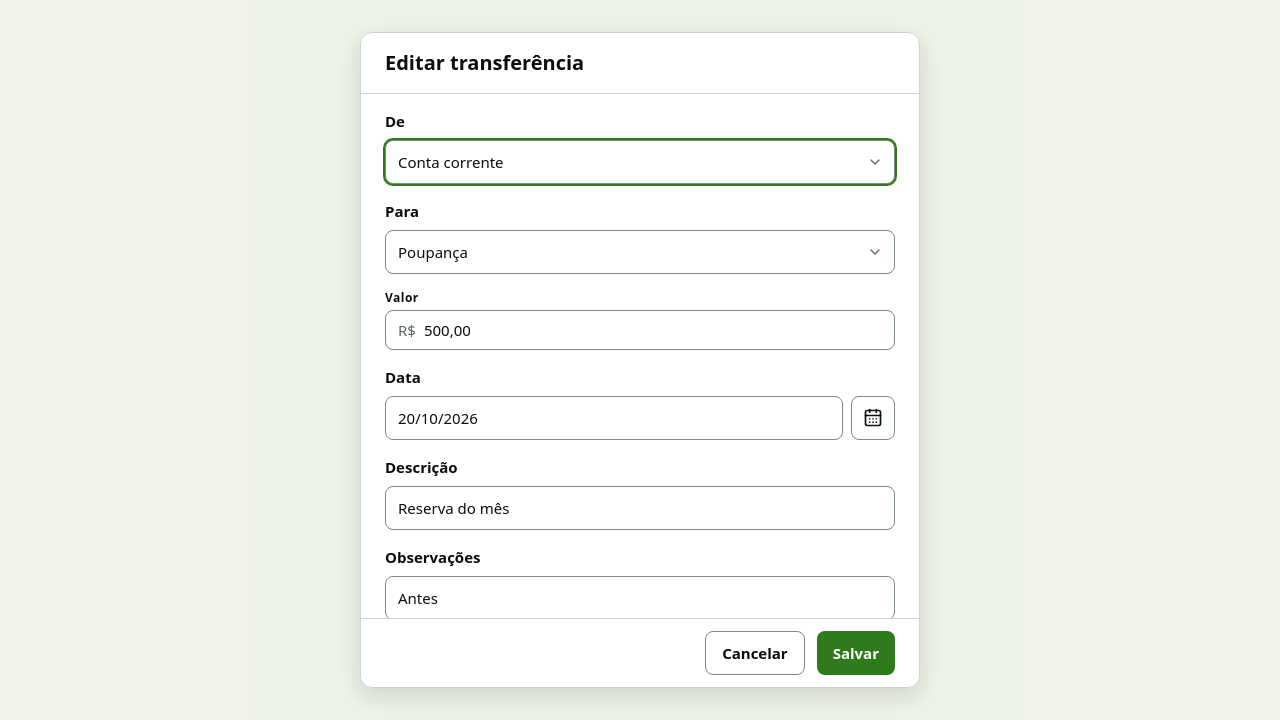
Scenario: TransferFormDialog — edit (spec 0018) › shows a conflict in the alert and reloads the transfer
Replace the text in the field labelled "Valor" with "600". click: (653, 330)
box: top-left (424, 319), bottom-right (882, 341)
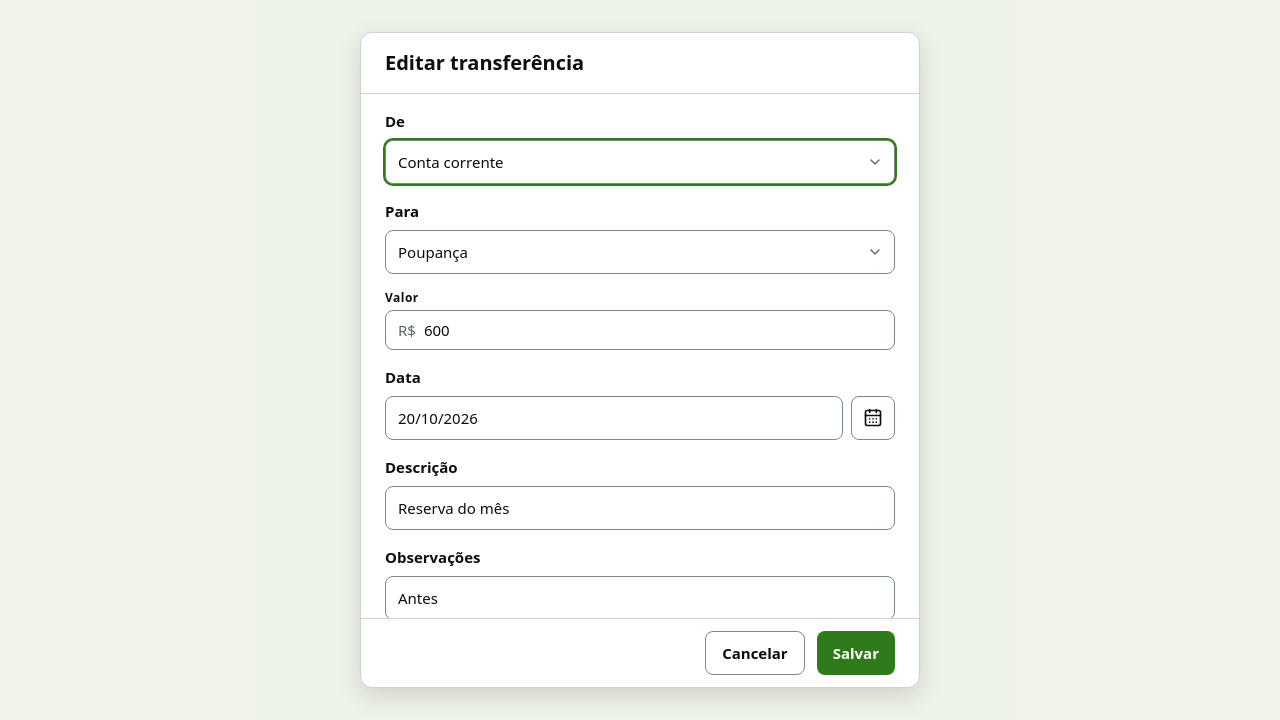
Click the button "Salvar". click: (856, 653)
box: top-left (817, 631), bottom-right (895, 675)
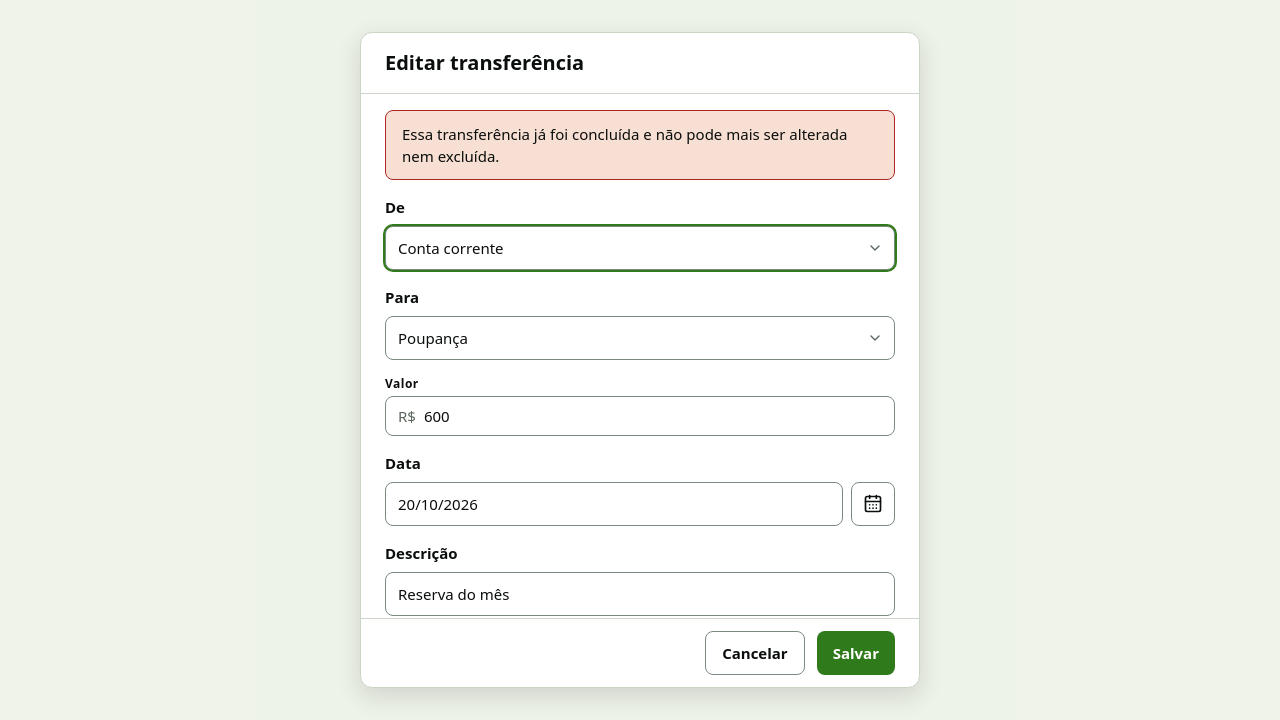
Result: the message "Essa transferência já foi concluída e não pode mais ser alterada nem excluída." is shown at top-left (385, 110), bottom-right (895, 180)
